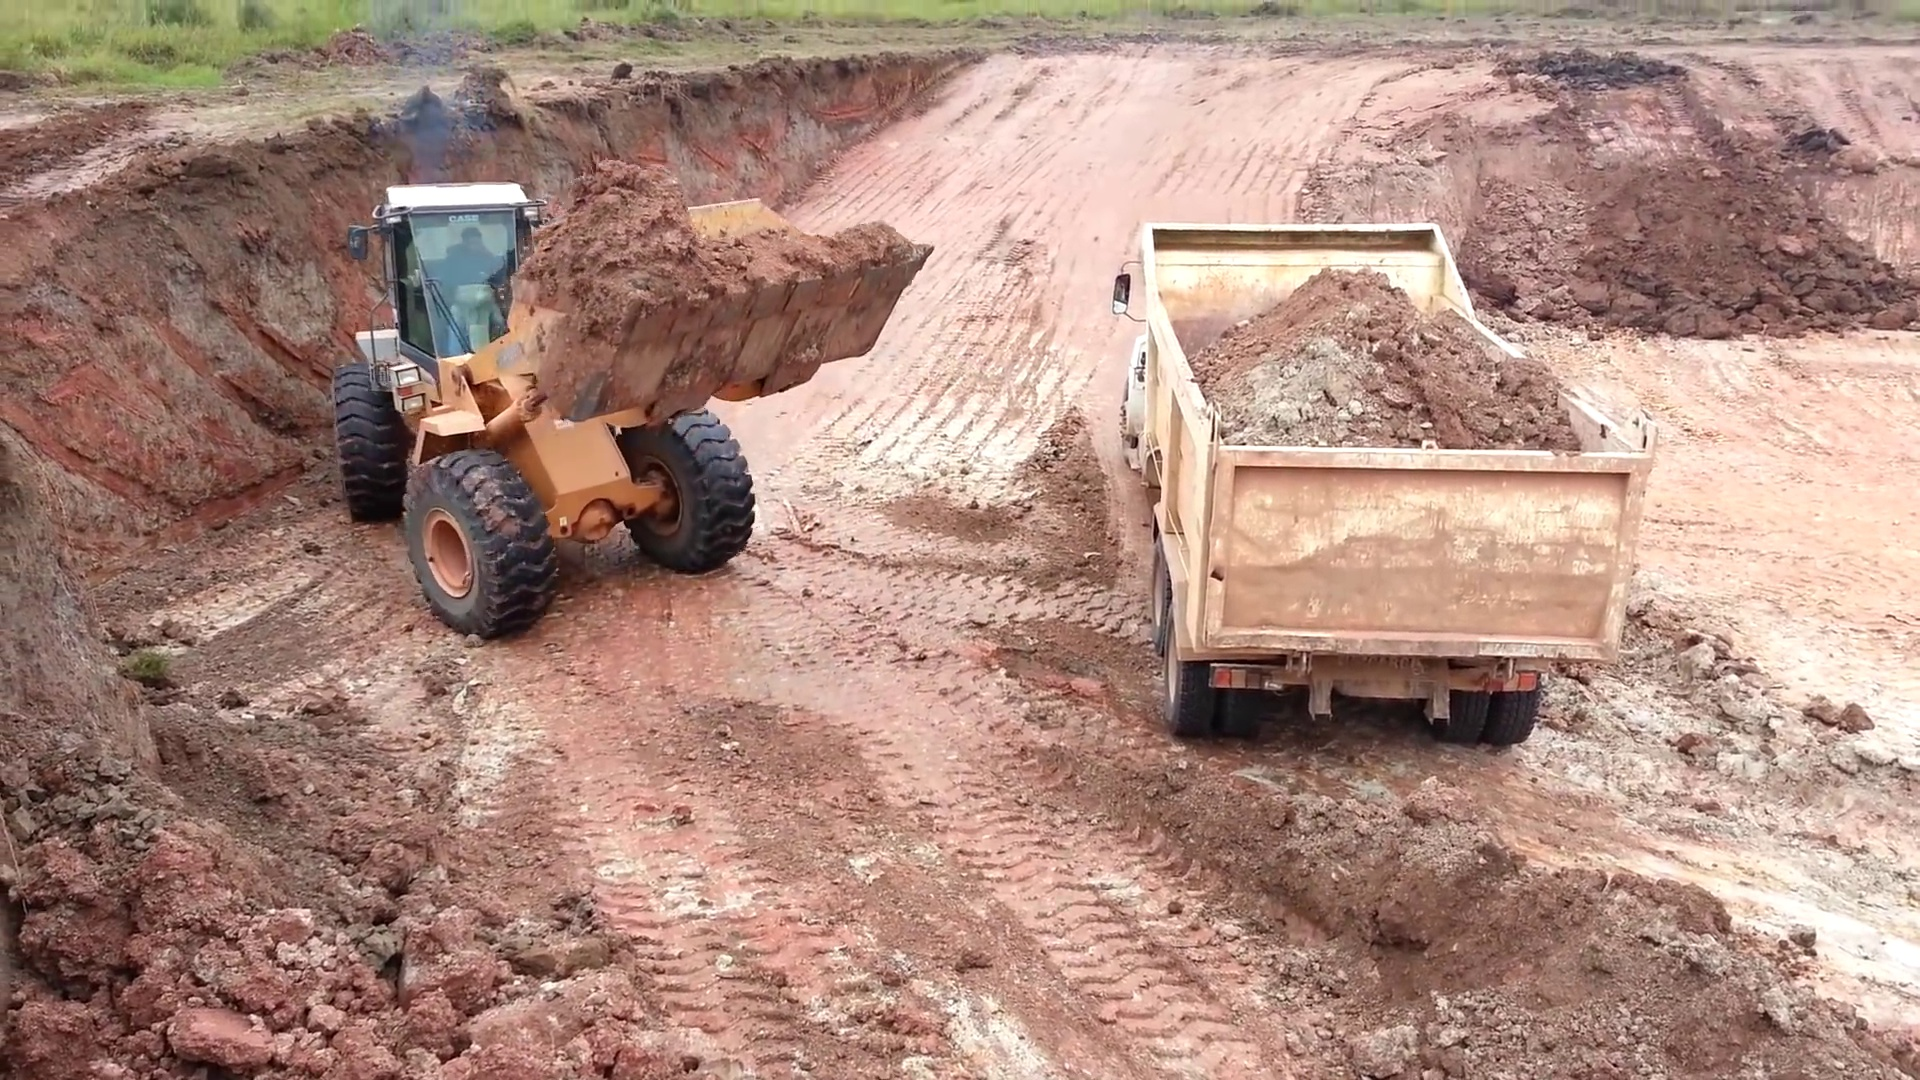dumper: (1114, 214, 1652, 753)
wheel loader: (334, 181, 932, 640)
